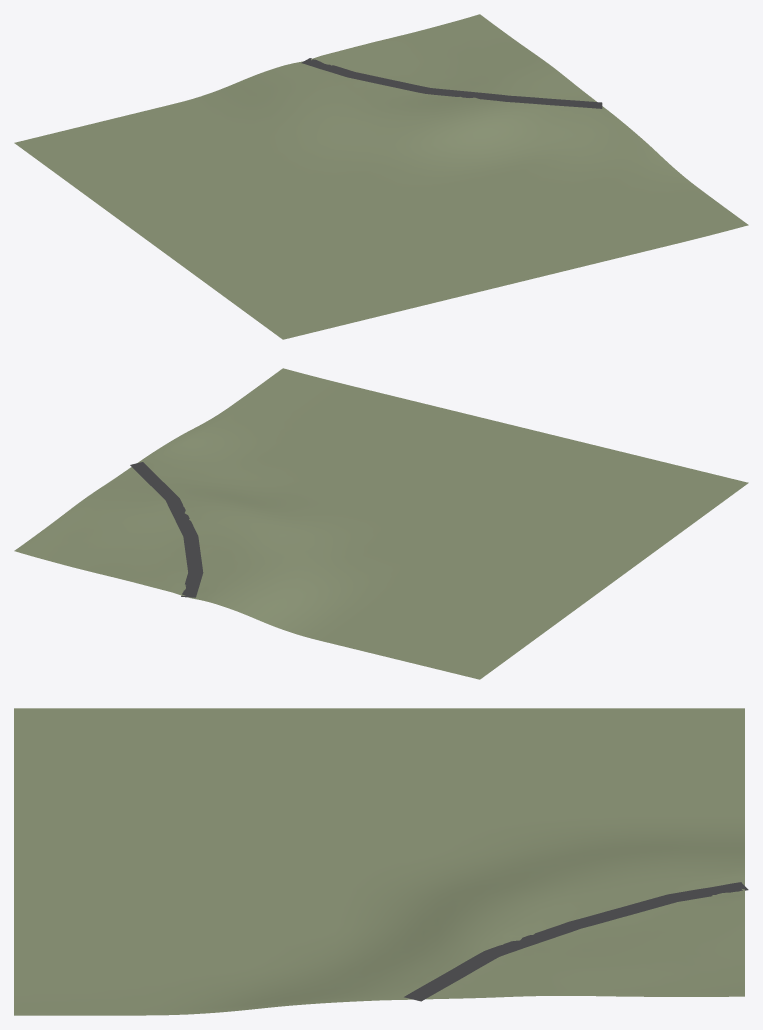
3 views of the same model, one above another, from view 1: azimuth 30°, elevation 25°; view 2: azimuth 150°, elevation 25°; view 3: azimuth 270°, elevation 25° (orthographic). The views are drawn at different scales.
Parts seen in each view (by area): view 1: ground, road; view 2: ground, road; view 3: ground, road.
Boxes of the visible parts, left/top/right/bottom form: ground: left=14, top=14, right=748, bottom=339; road: left=301, top=58, right=602, bottom=108; ground: left=14, top=368, right=748, bottom=679; road: left=130, top=462, right=203, bottom=597; ground: left=14, top=708, right=744, bottom=1015; road: left=404, top=882, right=748, bottom=1001.
Size of the model in its own units: 252 by 8.03 by 251.
